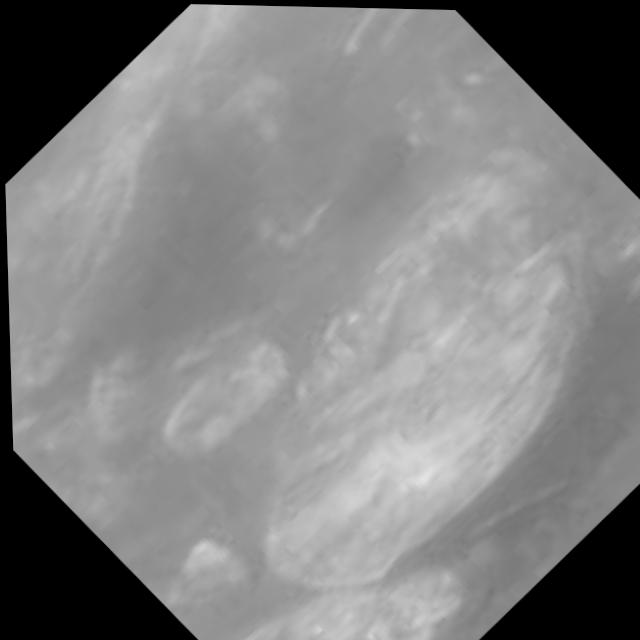Oyster-Indeterminate: (262, 227, 597, 601), (277, 149, 576, 417), (10, 76, 216, 394), (247, 536, 521, 640), (165, 334, 294, 453)
Oyster-Open: (343, 8, 420, 70)
